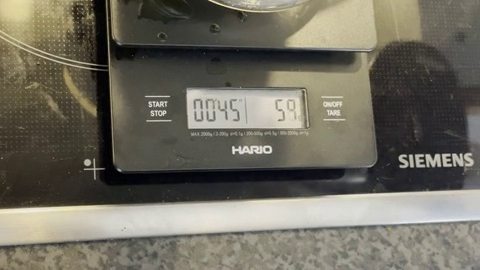display: (188, 89, 309, 129)
